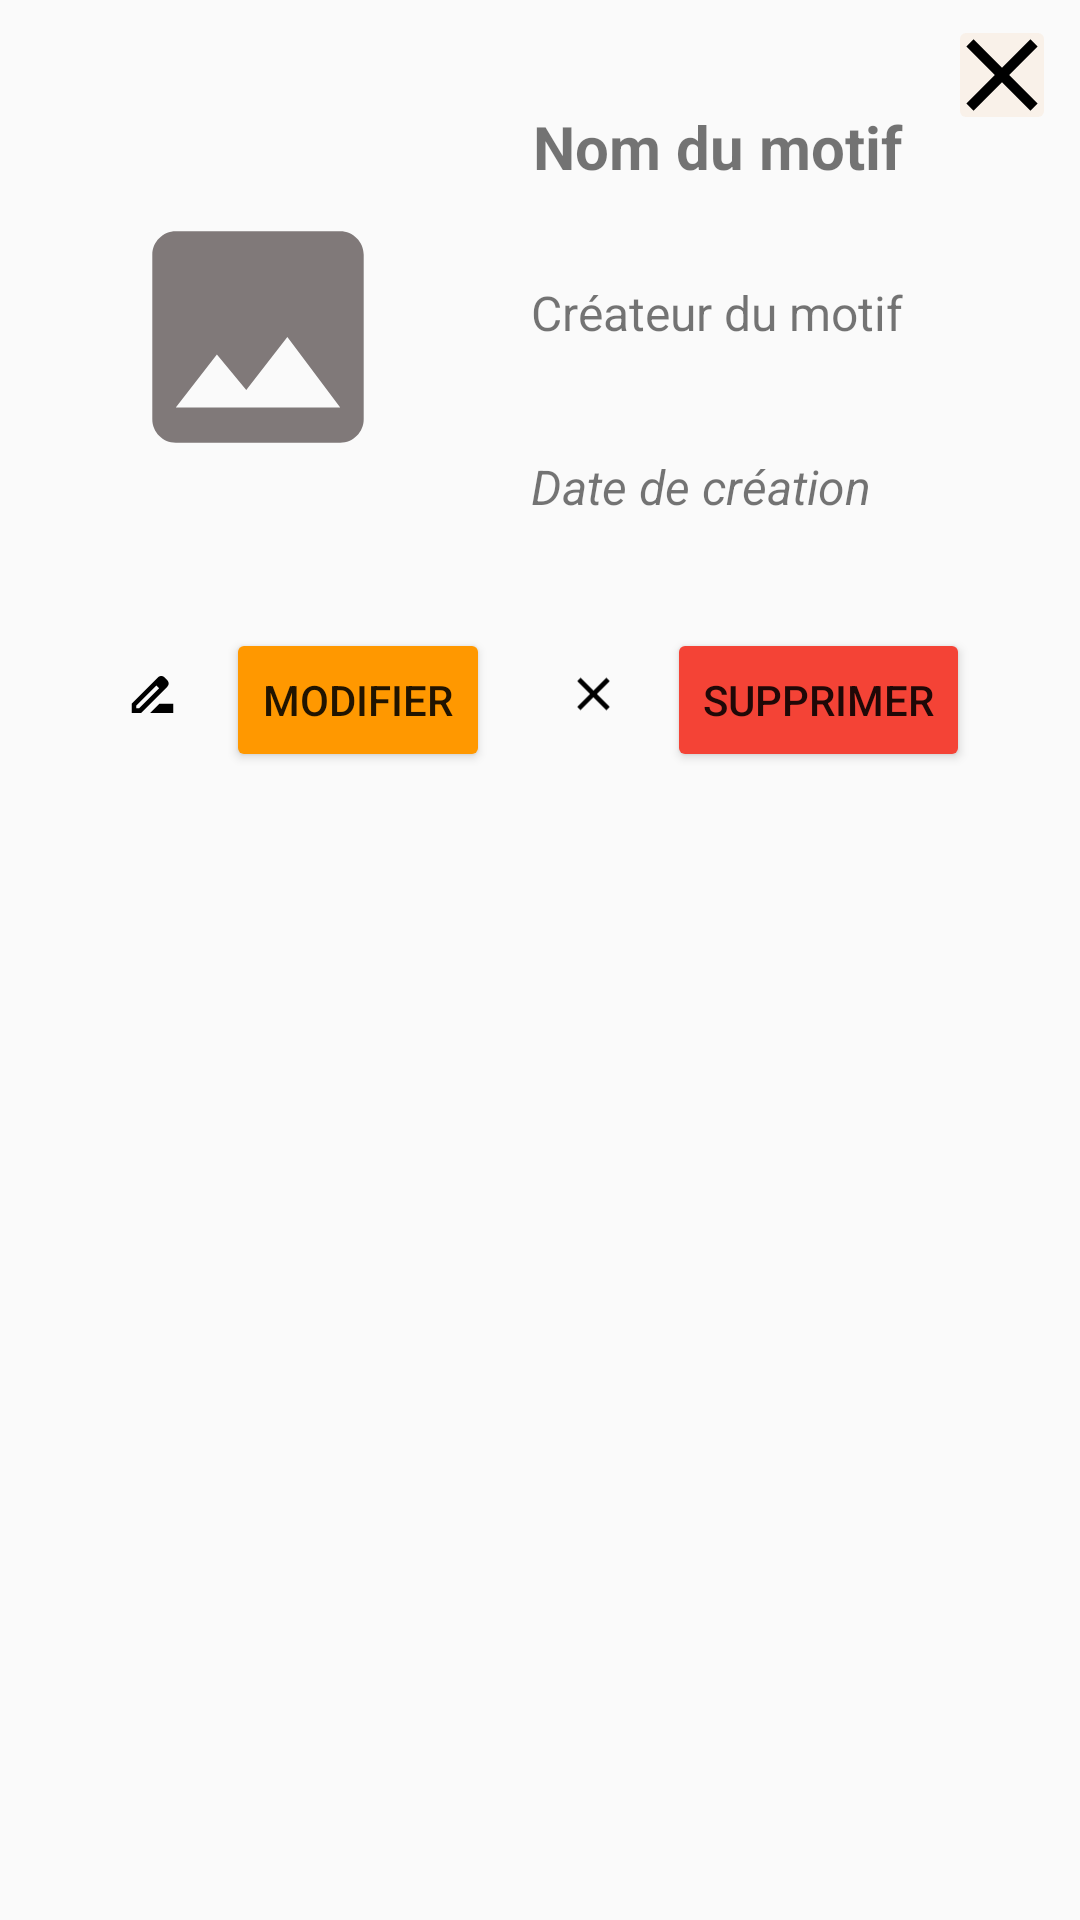

Where to tap for icons on this 1080*1920 app screen, as point (x, y):
close dialog: point (1002, 75), point (593, 694)
